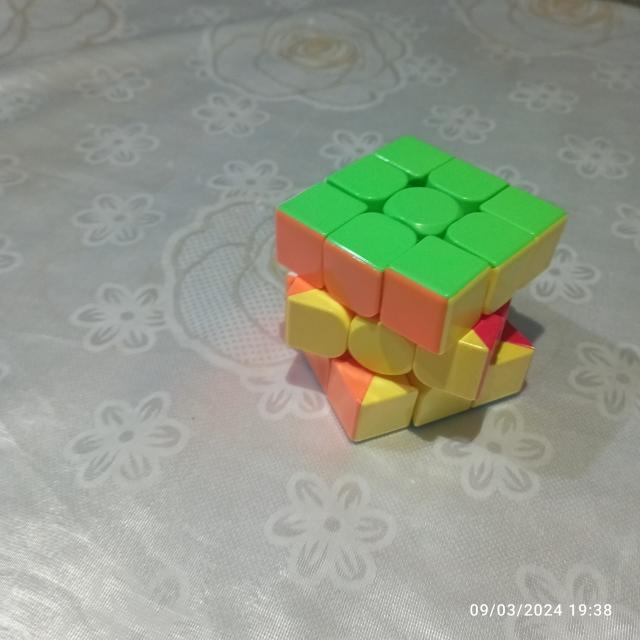Rub: (271, 128, 571, 446)
